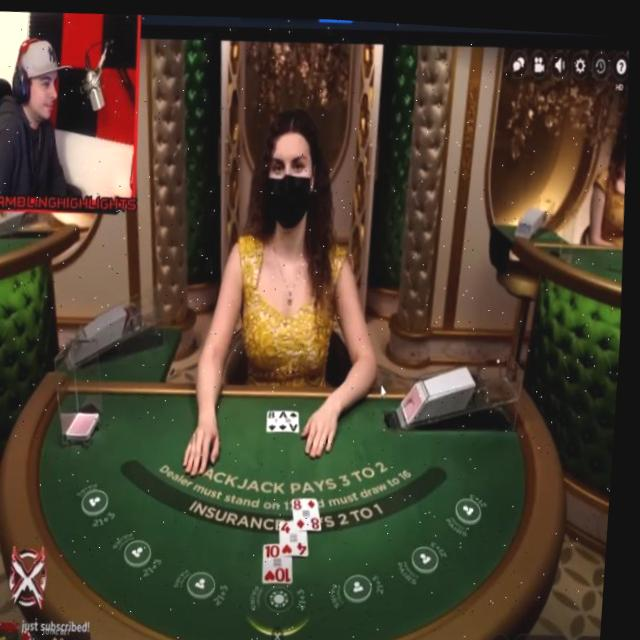Card-10: (270, 539, 300, 579)
Card-4: (286, 516, 315, 551)
Card-8: (298, 493, 328, 526), (272, 406, 283, 428)
Card-A: (283, 406, 304, 428)
